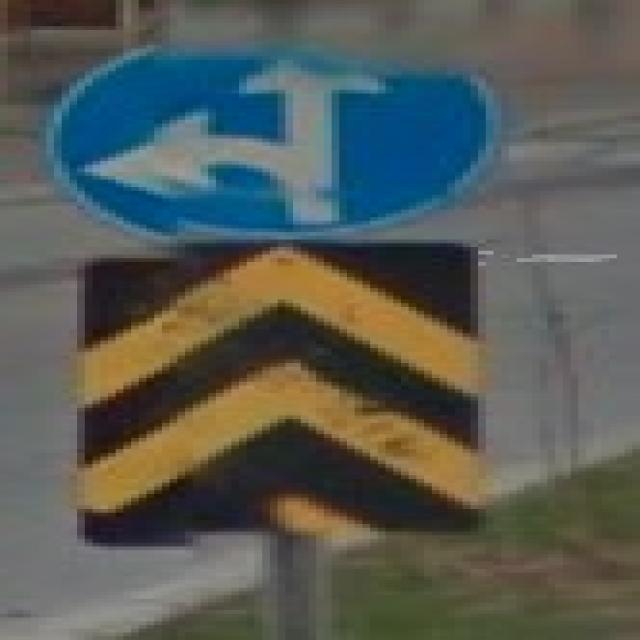Straight or Left: (44, 22, 499, 243)
